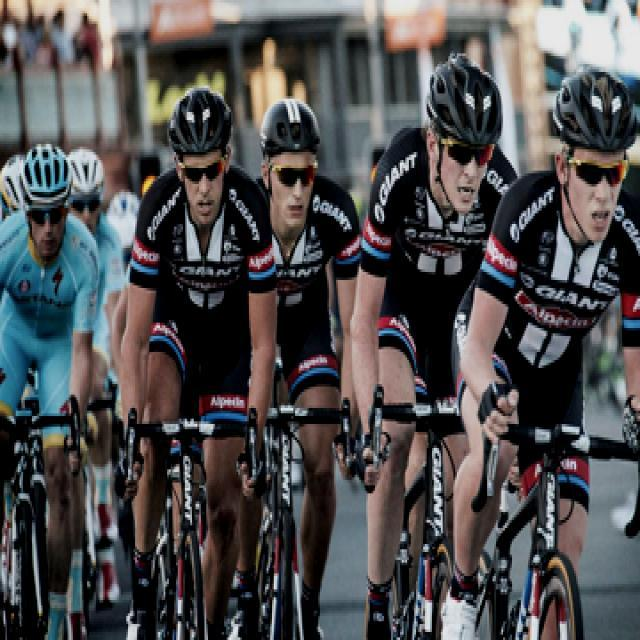Helmet: (540, 45, 640, 248), (416, 29, 512, 235), (164, 69, 242, 235), (252, 85, 328, 240), (11, 134, 78, 262)
